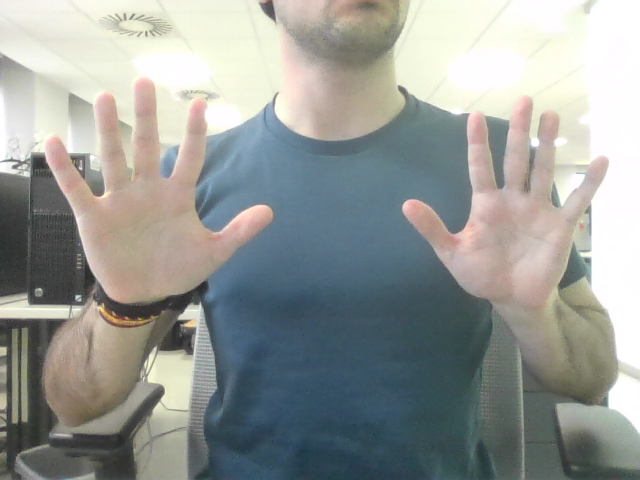Manos Arriba: (79, 97, 574, 273)
